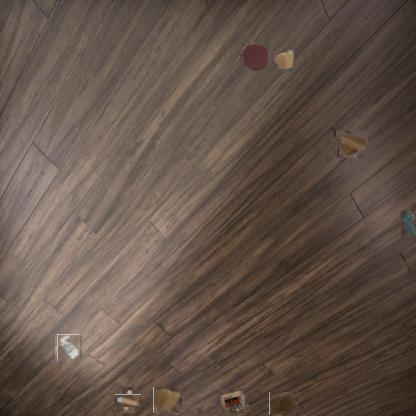dirty: (336, 130, 368, 158), (154, 387, 182, 414), (269, 391, 298, 415), (219, 388, 245, 414), (56, 335, 81, 360), (273, 48, 295, 72), (119, 391, 138, 410)
liquid: (240, 41, 270, 71), (400, 210, 416, 236)
